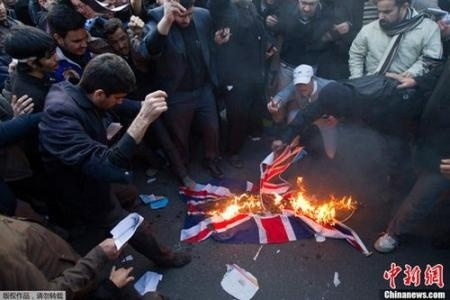fire: (207, 180, 360, 223)
